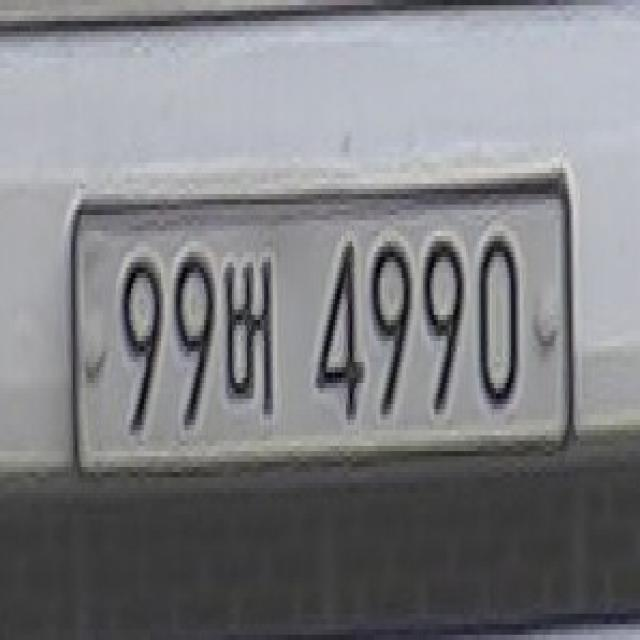0: (475, 222, 527, 438)
4: (308, 229, 368, 431)
9: (418, 230, 470, 433), (117, 245, 165, 448), (169, 245, 217, 442), (370, 227, 416, 431)
beo: (222, 245, 286, 430)
license_plate: (69, 162, 579, 502)
